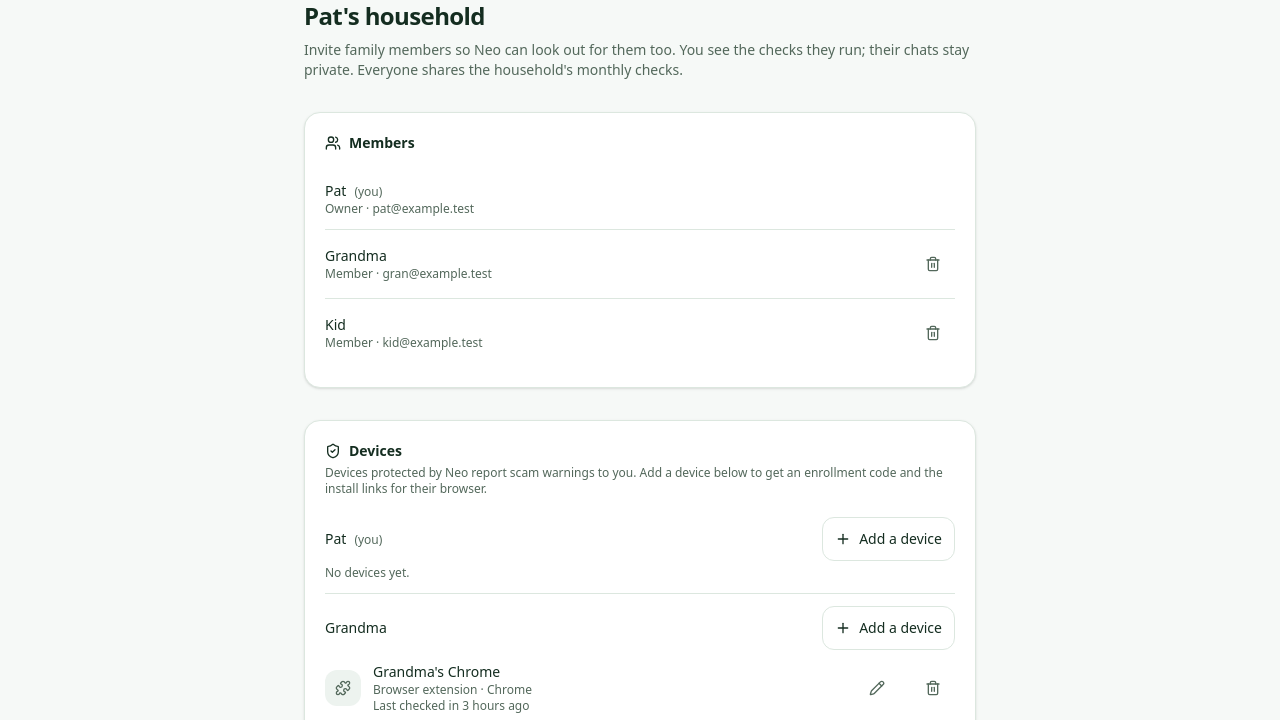
Test: HouseholdSettingsView devices (owner) › confirms before removing a device
Click the button named "Remove Grandma's Chrome": (933, 688) [911,666,955,710]
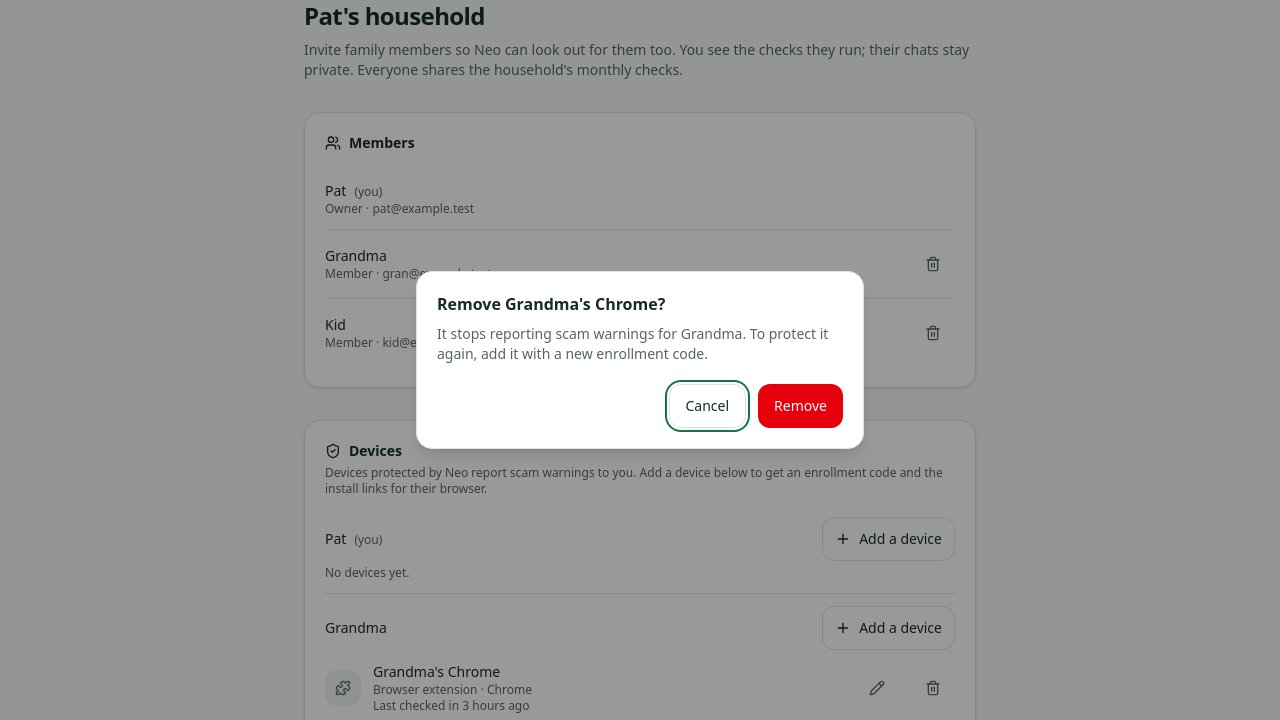
Now the heading "Remove Grandma's Chrome?" is shown, box [437,293,665,315]
Click the button "Remove": (801, 406) [758,384,843,428]
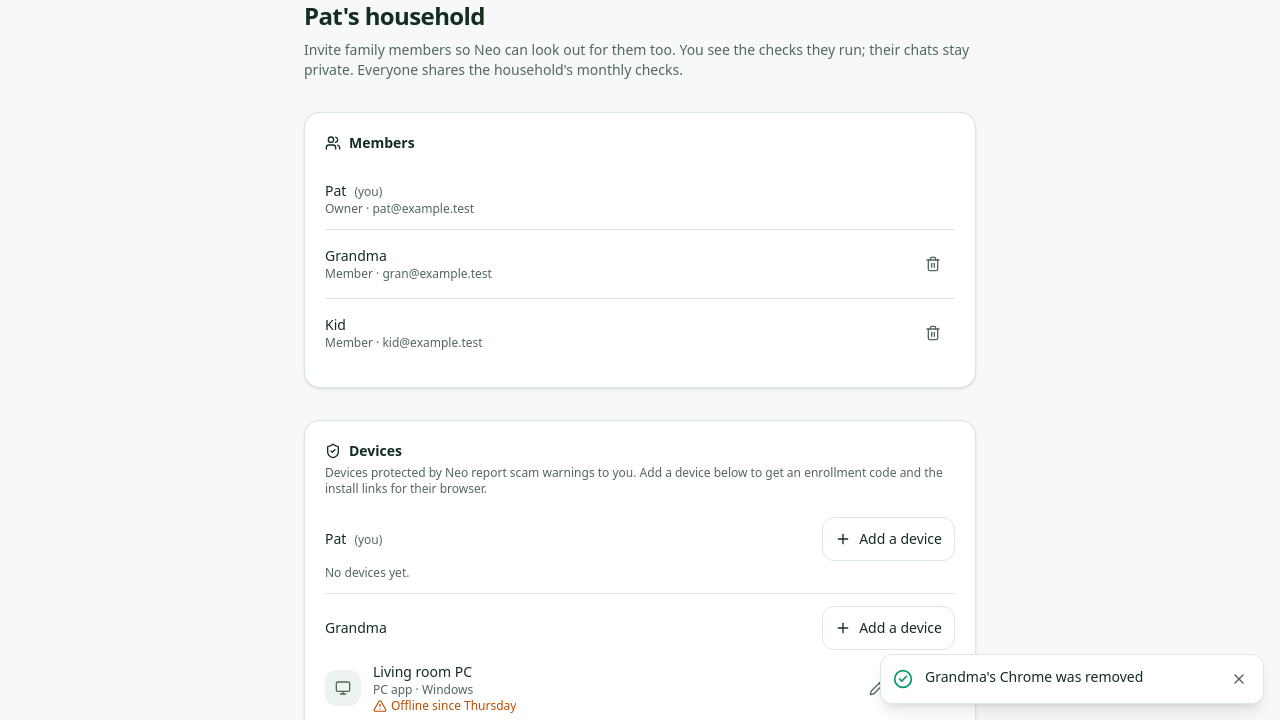
Now the text "Last checked in 3 hours ago" is gone
